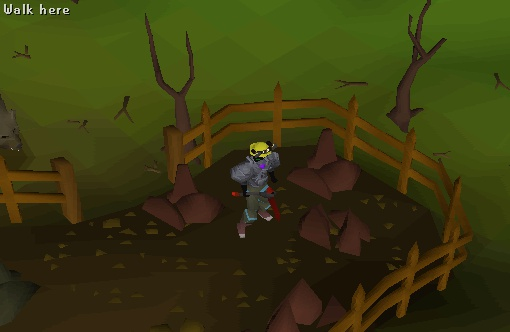iron: (127, 156, 233, 240), (279, 180, 385, 264), (278, 118, 384, 202)
